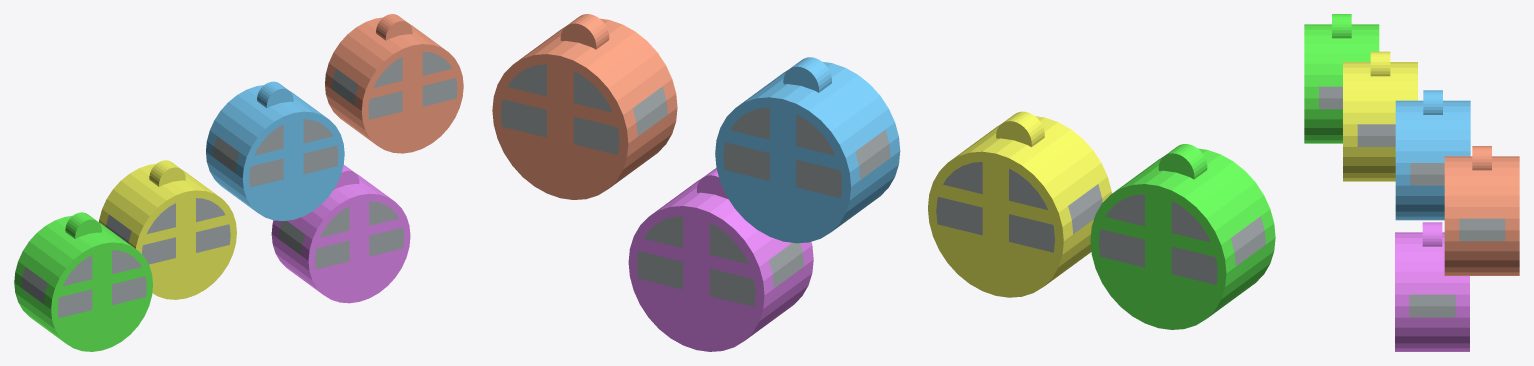
The model's file is gondoras.fbx.
3 renders of one model, left to right at view 1: azimuth 30°, elevation 25°; view 2: azimuth 150°, elevation 25°; view 3: azimuth 270°, elevation 25°, orthographic. The views are drawn at different scales.
Visible parts, largest first — view 1: 円柱.003, 円柱.002, 円柱.004, 円柱.001, 円柱.005; view 2: 円柱.003, 円柱.004, 円柱.002, 円柱.001, 円柱.005; view 3: 円柱.003, 円柱.005, 円柱.002, 円柱.001, 円柱.004.
Part boxes in pixels (box(x1,y1,x2,y2)): 円柱.003: box(325, 14, 463, 153); 円柱.002: box(206, 81, 344, 221); 円柱.004: box(14, 212, 152, 351); 円柱.001: box(99, 160, 236, 299); 円柱.005: box(271, 165, 410, 303); 円柱.003: box(492, 14, 677, 199); 円柱.004: box(1090, 144, 1275, 329); 円柱.002: box(715, 57, 900, 243); 円柱.001: box(928, 111, 1111, 297); 円柱.005: box(628, 168, 813, 351); 円柱.003: box(1444, 146, 1519, 275); 円柱.005: box(1395, 222, 1469, 351); 円柱.002: box(1395, 90, 1470, 220); 円柱.001: box(1343, 51, 1417, 181); 円柱.004: box(1304, 14, 1379, 143).
Size of the model in its own units: 2455 by 1138 by 935.
